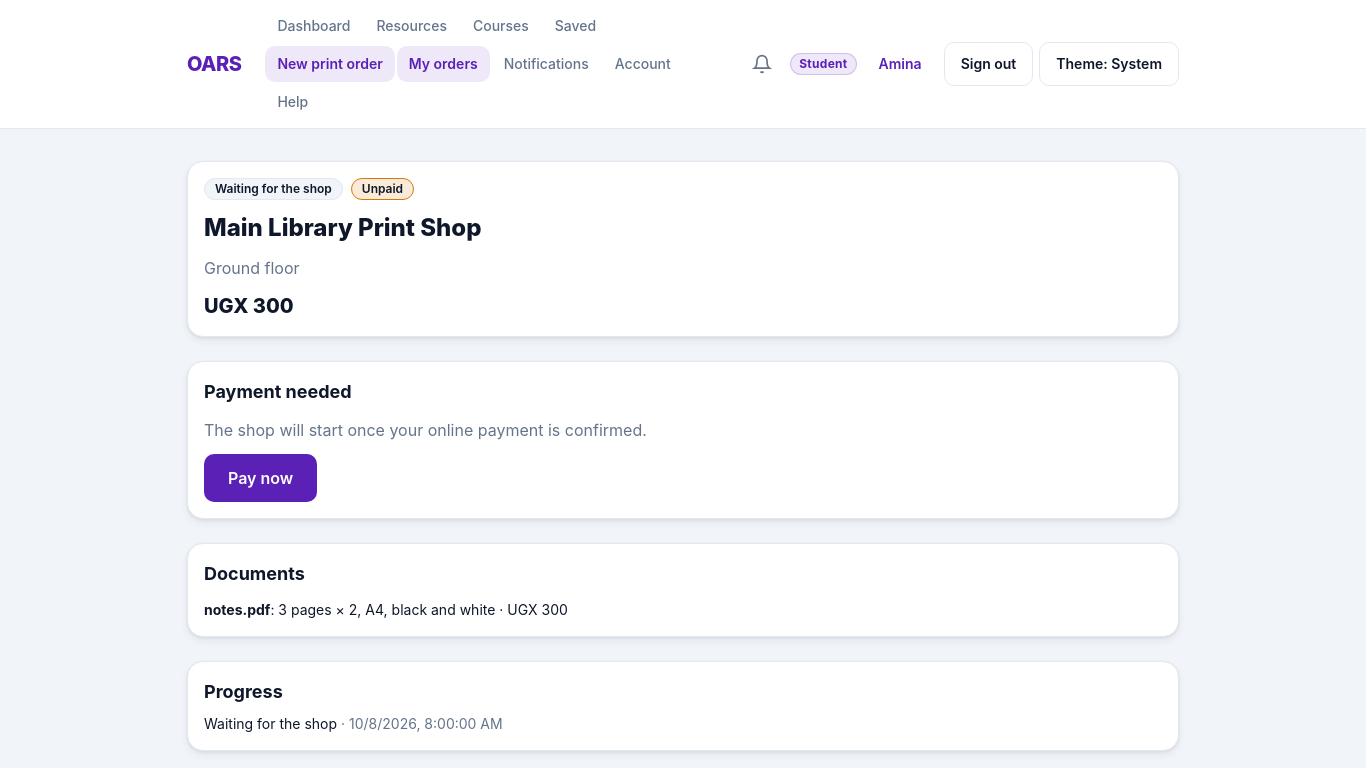
Test: PrintOrderPage › offers Pay now for an online order that is waiting for payment and opens the checkout
Click the button "Pay now" at coordinates (261, 478), box [204, 454, 317, 502]
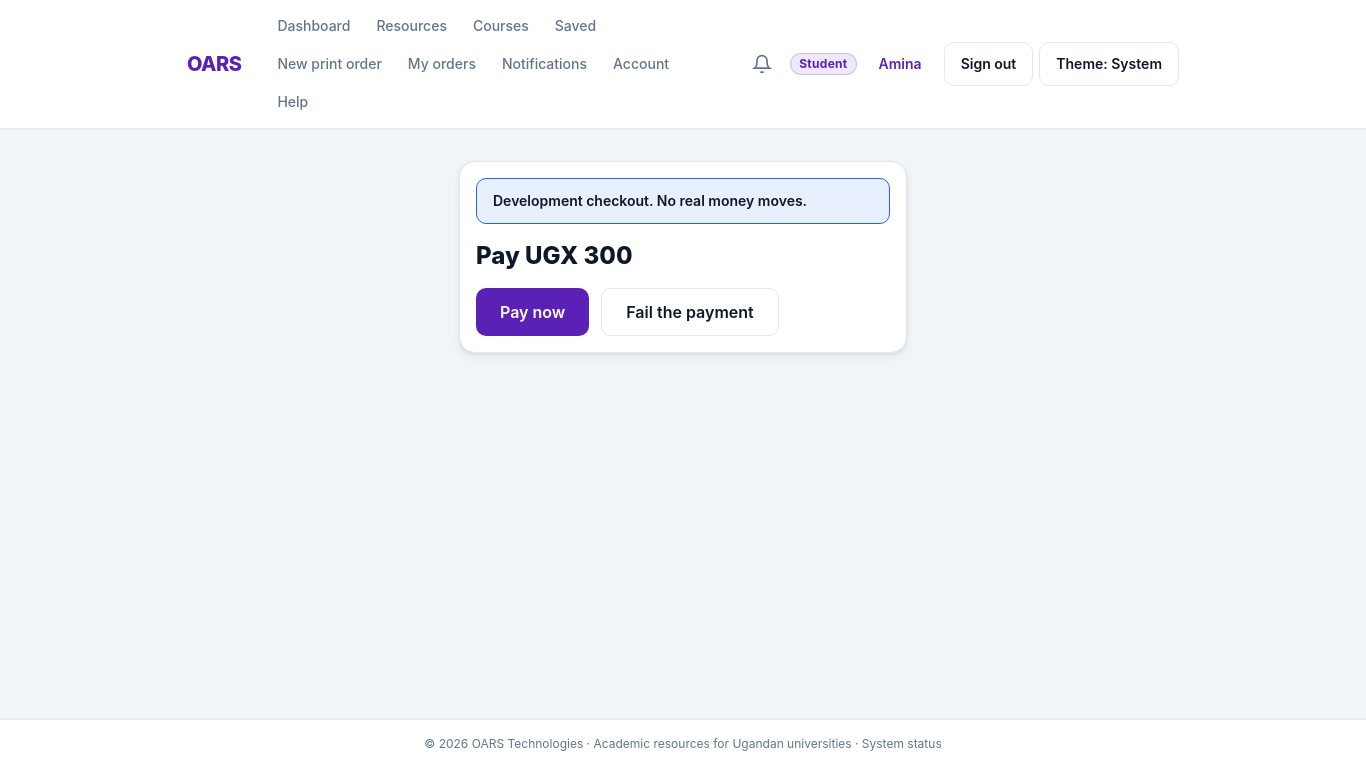
Check: the text "Development checkout. No real money moves." is shown, box [476, 178, 890, 224]
